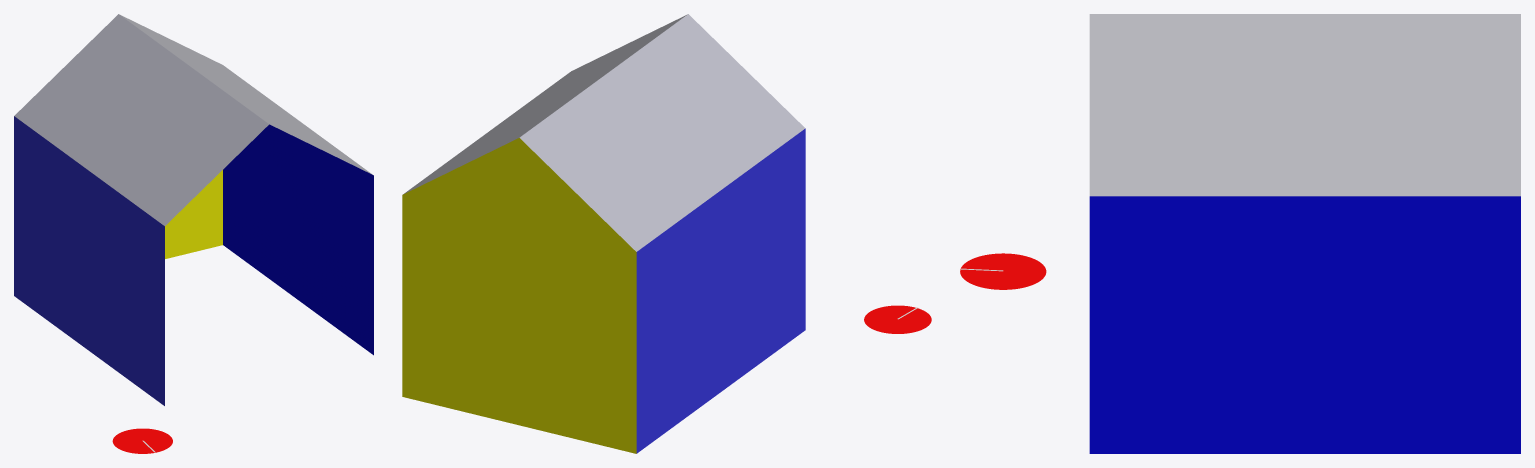
File: result.glb
The picture shows the model from 3 angles, left to right: view 1: azimuth 30°, elevation 25°; view 2: azimuth 150°, elevation 25°; view 3: azimuth 270°, elevation 25°; orthographic projection. The views are drawn at different scales.
Visible parts, largest first — view 1: 20b6f240-aa36-4eec-91bd-ac100eff398d__undefined, f9ec35b4-4384-4bf8-8632-ecb6db8b83dc__undefined, 28fea2d2-561b-4bdc-8a85-5510a5b48e87__undefined, 396530da-16d8-4603-9519-0e47ae588c7e__undefined, 86038ff3-3054-4e5e-87f9-f03864ffccc3__undefined, 0fa9911a-fa7f-4005-b559-bd39cff8d929__Circle; view 2: 86038ff3-3054-4e5e-87f9-f03864ffccc3__undefined, 20b6f240-aa36-4eec-91bd-ac100eff398d__undefined, f9ec35b4-4384-4bf8-8632-ecb6db8b83dc__undefined, 396530da-16d8-4603-9519-0e47ae588c7e__undefined, 0fa9911a-fa7f-4005-b559-bd39cff8d929__Circle; view 3: 28fea2d2-561b-4bdc-8a85-5510a5b48e87__undefined, 396530da-16d8-4603-9519-0e47ae588c7e__undefined, 0fa9911a-fa7f-4005-b559-bd39cff8d929__Circle.
Boxes of the visible parts, left/top/right/bottom form: 20b6f240-aa36-4eec-91bd-ac100eff398d__undefined: left=14, top=116, right=164, bottom=405; f9ec35b4-4384-4bf8-8632-ecb6db8b83dc__undefined: left=14, top=14, right=268, bottom=225; 28fea2d2-561b-4bdc-8a85-5510a5b48e87__undefined: left=223, top=124, right=373, bottom=355; 396530da-16d8-4603-9519-0e47ae588c7e__undefined: left=119, top=14, right=372, bottom=174; 86038ff3-3054-4e5e-87f9-f03864ffccc3__undefined: left=165, top=170, right=222, bottom=258; 0fa9911a-fa7f-4005-b559-bd39cff8d929__Circle: left=112, top=428, right=172, bottom=453; 86038ff3-3054-4e5e-87f9-f03864ffccc3__undefined: left=402, top=138, right=636, bottom=453; 20b6f240-aa36-4eec-91bd-ac100eff398d__undefined: left=636, top=128, right=805, bottom=453; f9ec35b4-4384-4bf8-8632-ecb6db8b83dc__undefined: left=519, top=14, right=805, bottom=251; 396530da-16d8-4603-9519-0e47ae588c7e__undefined: left=403, top=14, right=687, bottom=194; 0fa9911a-fa7f-4005-b559-bd39cff8d929__Circle: left=864, top=305, right=931, bottom=333; 28fea2d2-561b-4bdc-8a85-5510a5b48e87__undefined: left=1089, top=196, right=1520, bottom=453; 396530da-16d8-4603-9519-0e47ae588c7e__undefined: left=1089, top=14, right=1520, bottom=196; 0fa9911a-fa7f-4005-b559-bd39cff8d929__Circle: left=960, top=253, right=1046, bottom=289.
Bounding box in the file's own units: 550 × 469 × 650.
